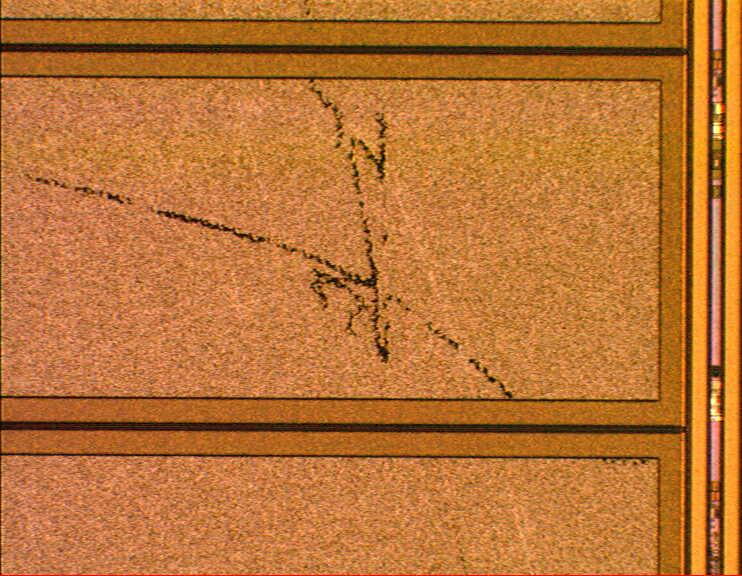SCRATCH: (11, 1, 530, 411)
